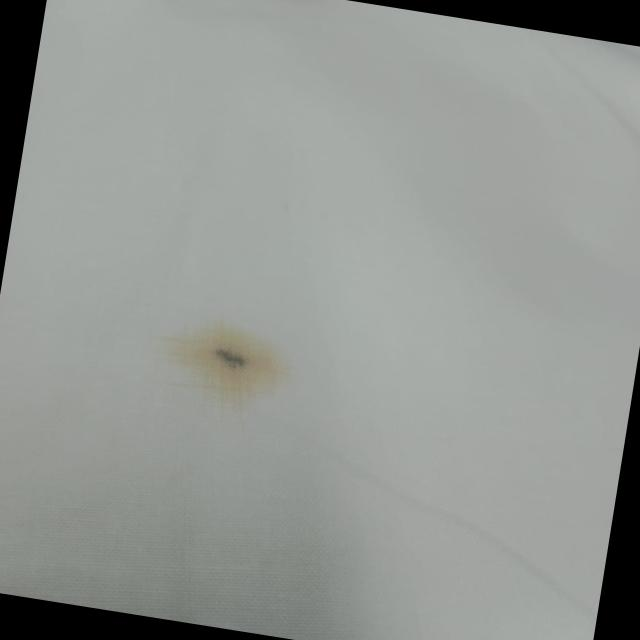stain: (162, 310, 288, 412)
